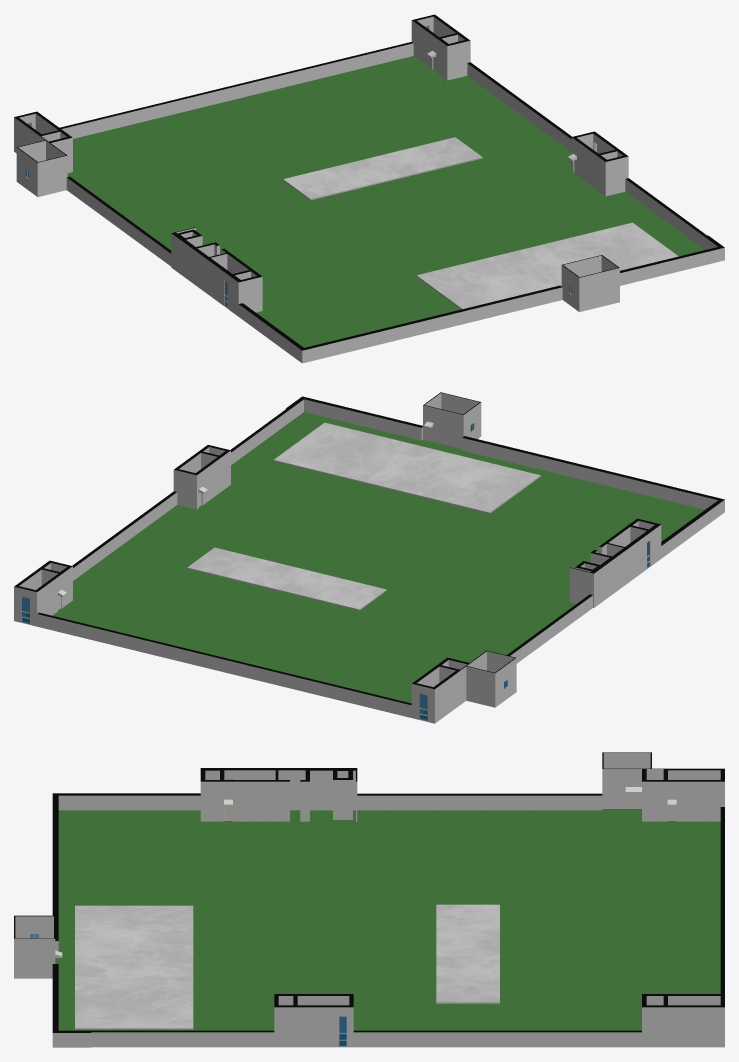
3 views of the same model, one above another, from view 1: azimuth 30°, elevation 25°; view 2: azimuth 150°, elevation 25°; view 3: azimuth 270°, elevation 25° (orthographic). The views are drawn at different scales.
Visible parts, largest first — view 1: S_F2_RF_바닥, S_F2_RF_벽; view 2: S_F2_RF_바닥, S_F2_RF_벽, S_F2_RF_창문; view 3: S_F2_RF_바닥, S_F2_RF_벽, S_F2_RF_방화문.
Boxes of the visible parts, box(x1,y1,x2,y2) form: S_F2_RF_바닥: box(67, 56, 704, 347); S_F2_RF_벽: box(14, 14, 724, 363); S_F2_RF_바닥: box(23, 412, 704, 719); S_F2_RF_벽: box(14, 392, 724, 723); S_F2_RF_창문: box(21, 422, 650, 721); S_F2_RF_바닥: box(55, 809, 720, 1045); S_F2_RF_벽: box(14, 752, 724, 1047); S_F2_RF_방화문: box(224, 793, 676, 1034).
Bounding box in the file's own units: 74 × 5.4 × 87.
6 materials, 2 textured.
